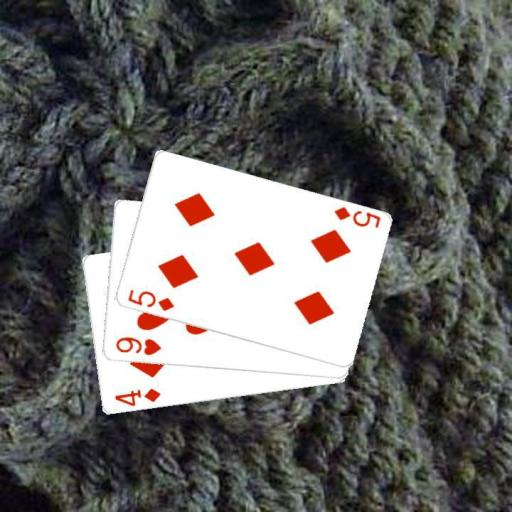4D: (111, 386, 161, 409)
5D: (330, 203, 382, 230), (124, 286, 175, 313)
9H: (112, 334, 162, 358)
